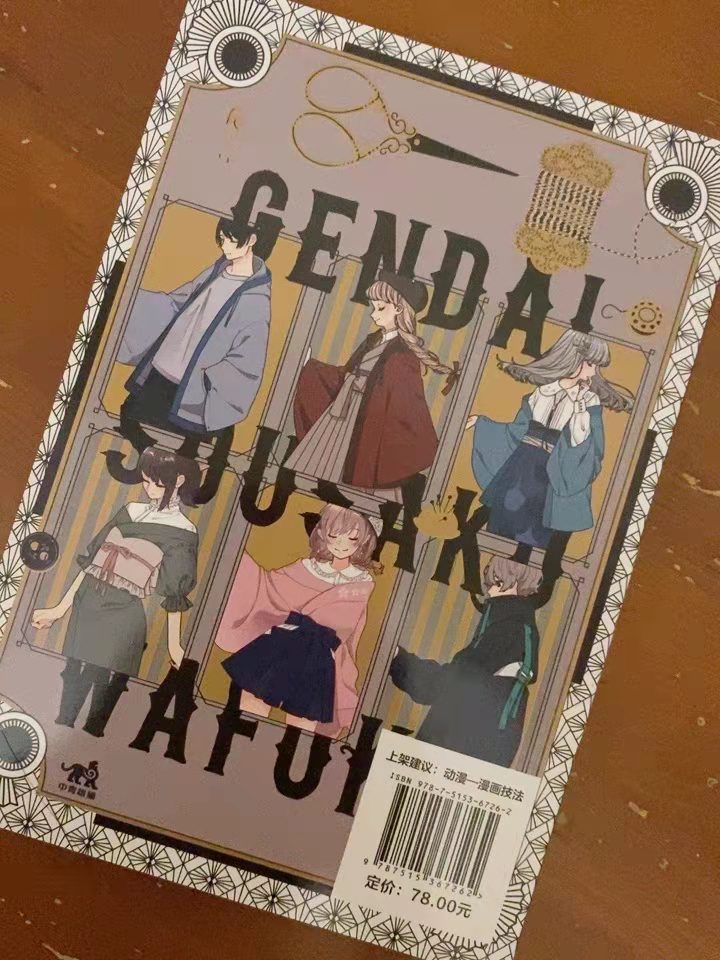book: (9, 5, 720, 960)
